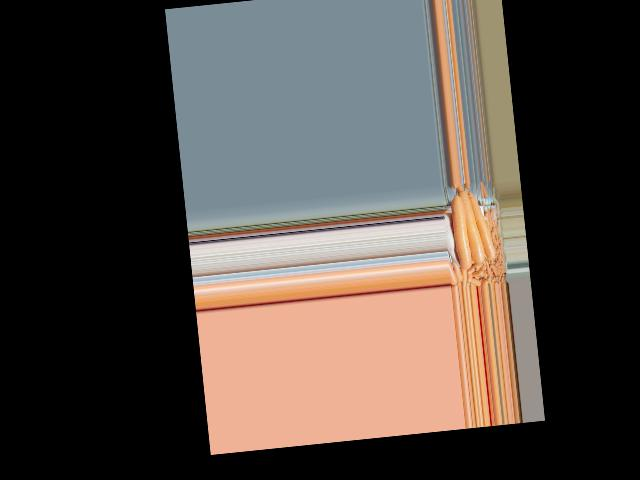carrot: (450, 191, 476, 271)
